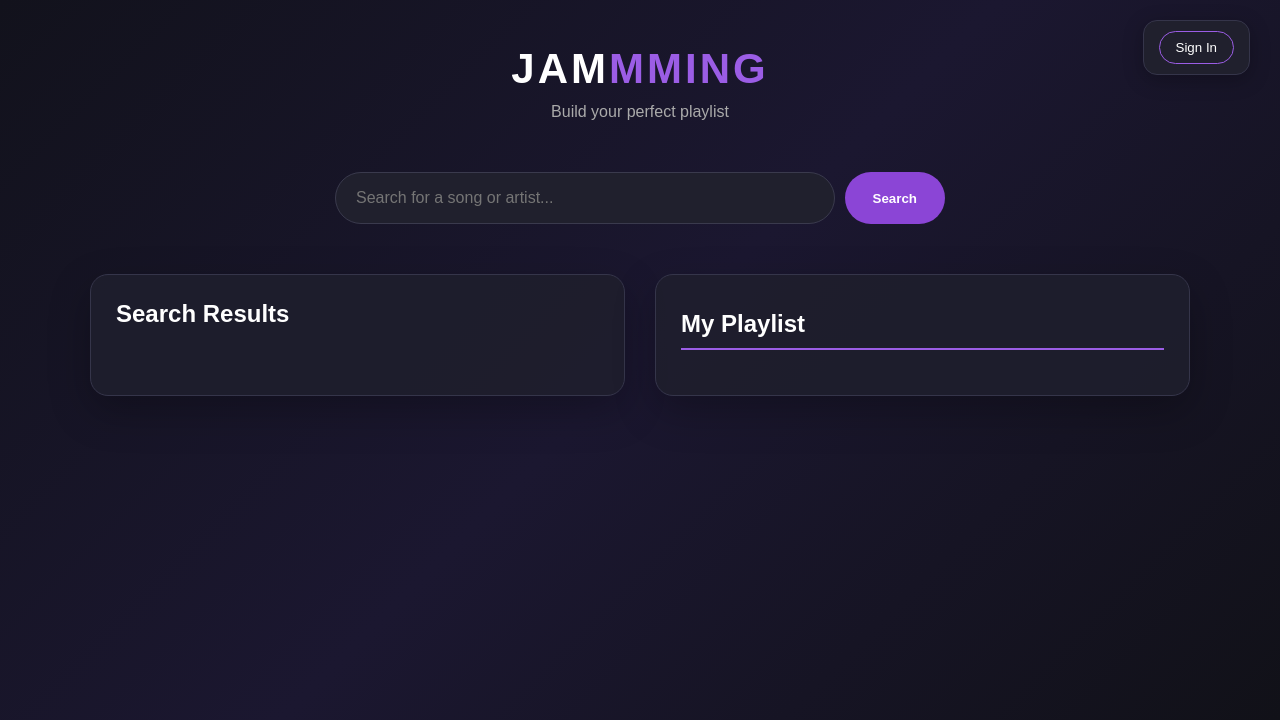
it: Jammming App › logs the user into Audius
The image size is (1280, 720).
Click the button "Sign In": (1196, 48) x1=1158 y1=31 x2=1234 y2=64
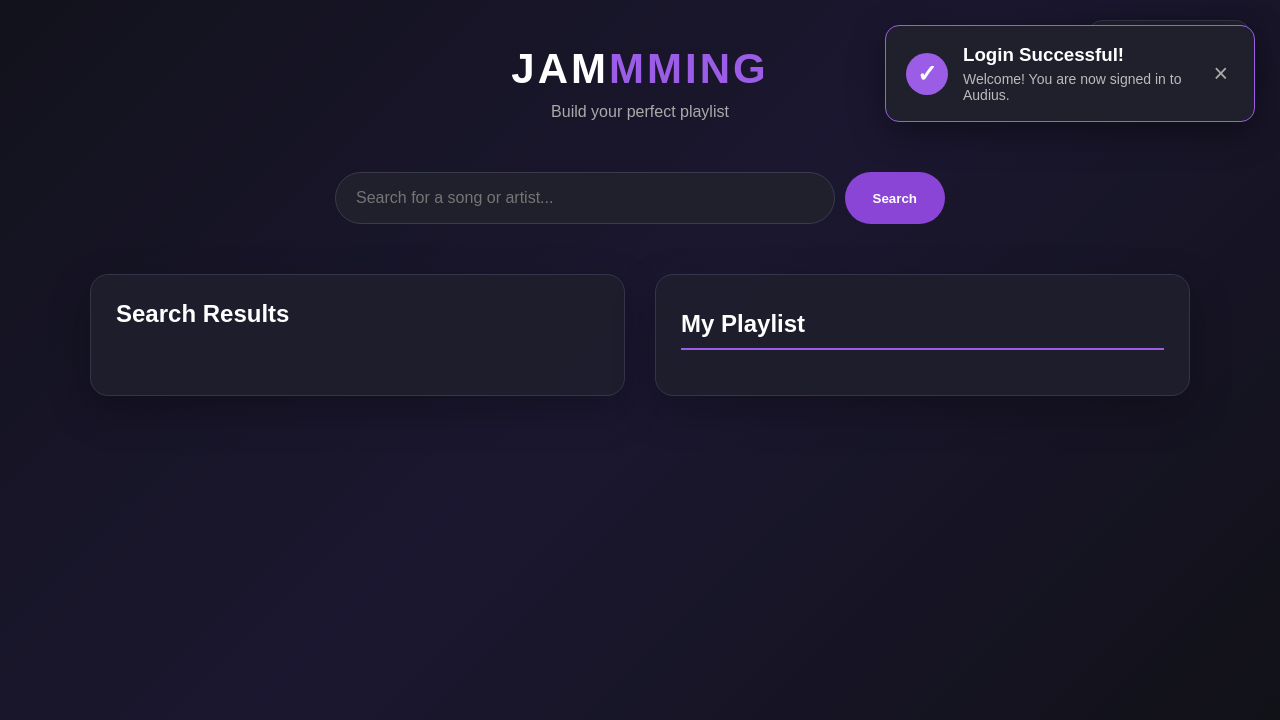
Expected: the text "✓ afag" is shown, x1=1104 y1=40 x2=1147 y2=56
